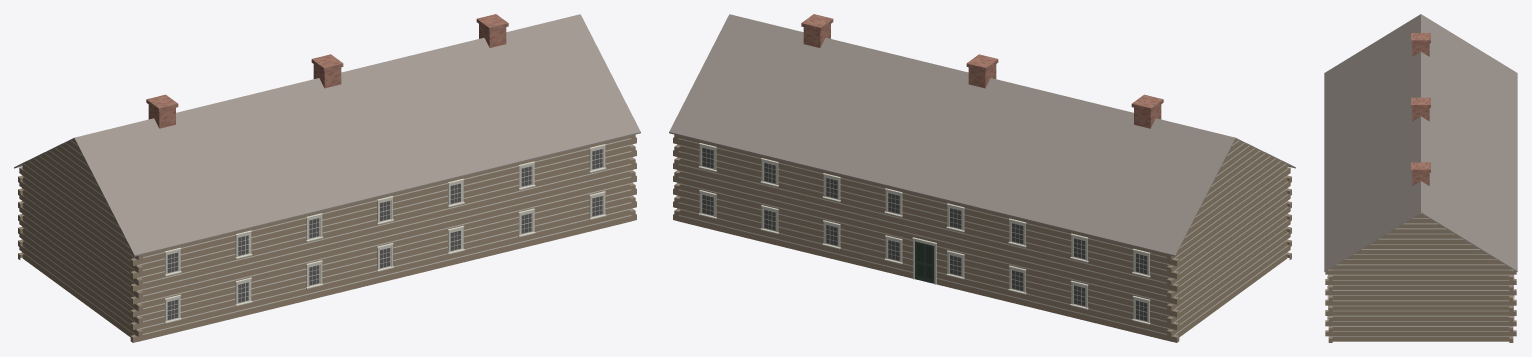
File: fort_dearborn_barracks__log_1816.glb
The picture shows the model from 3 angles, left to right: view 1: azimuth 30°, elevation 25°; view 2: azimuth 150°, elevation 25°; view 3: azimuth 270°, elevation 25°; orthographic projection. The views are drawn at different scales.
Visible parts, largest first — view 1: fort_dearborn_barracks__log_1816; view 2: fort_dearborn_barracks__log_1816; view 3: fort_dearborn_barracks__log_1816.
Part boxes in pixels (left/top/right/bottom): fort_dearborn_barracks__log_1816: left=14, top=14, right=640, bottom=342; fort_dearborn_barracks__log_1816: left=669, top=14, right=1295, bottom=342; fort_dearborn_barracks__log_1816: left=1324, top=14, right=1517, bottom=342.
Bounding box in the file's own units: 28.15 × 9.49 × 11.61.
Materials: 7 (1 with a texture image).
